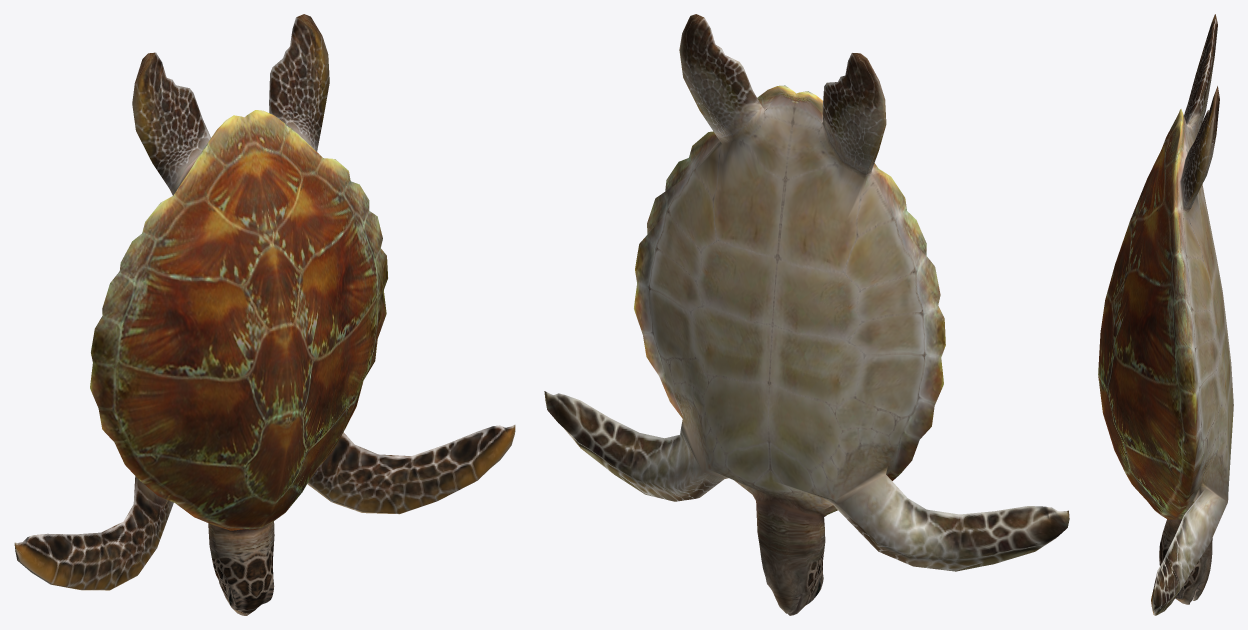
Rendered from turtle.obj.
3 renders of one model, left to right at view 1: azimuth 30°, elevation 25°; view 2: azimuth 150°, elevation 25°; view 3: azimuth 270°, elevation 25°, orthographic. The views are drawn at different scales.
Visible parts, largest first — view 1: turtle; view 2: turtle; view 3: turtle.
Part boxes in pixels (x1,y1,x2,y2): turtle: (14, 14, 515, 615); turtle: (544, 14, 1069, 615); turtle: (1098, 14, 1233, 615).
Size of the model in its own units: 55.04 by 59.76 by 13.31.
